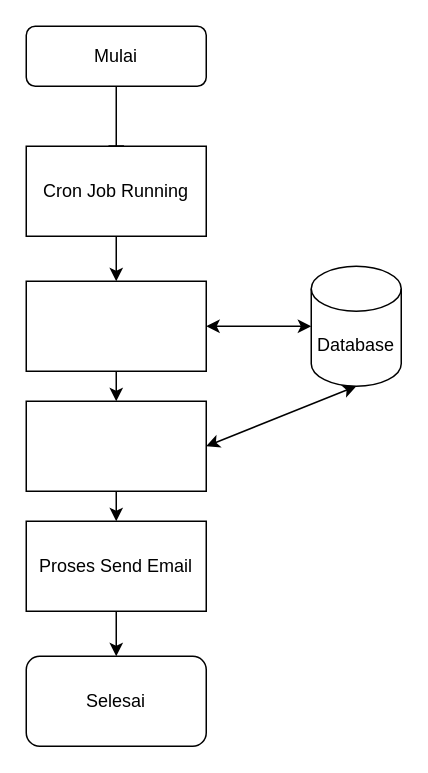
Image size: 428x773. Some labels were removed from this diagram. Each missing label, with the box of its shape:
Proses Create PromoCode: (25, 400, 206, 491)
Proses Fetch Data Users: (25, 280, 206, 371)
